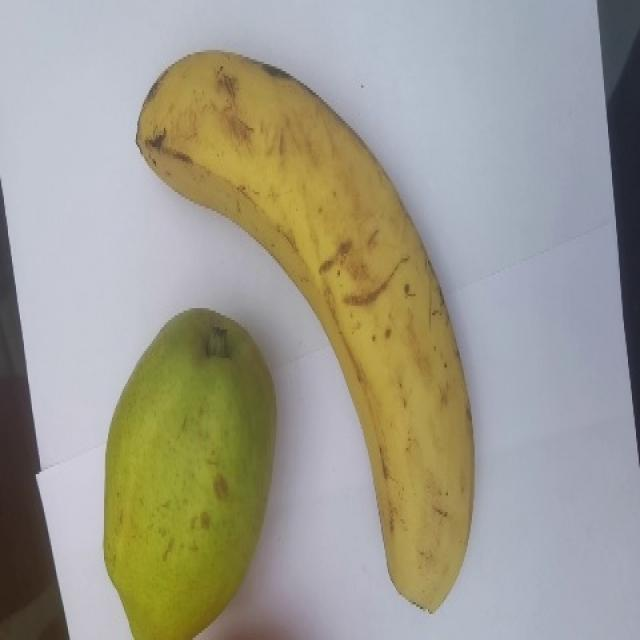Banana: (134, 48, 476, 614)
